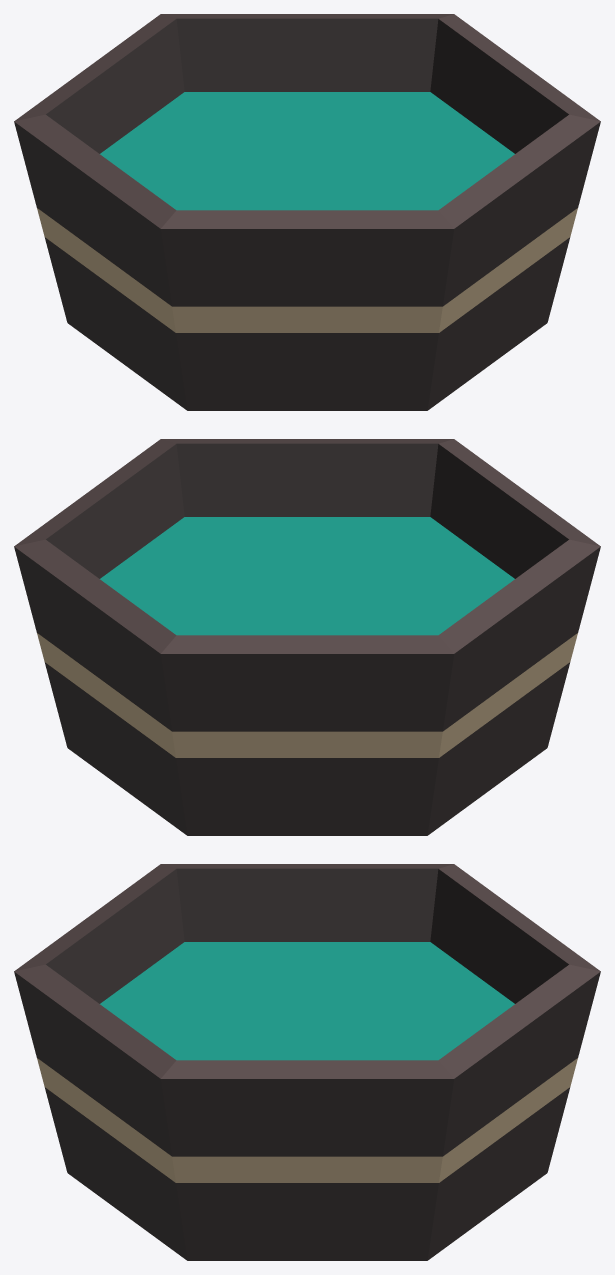
The model's file is TB_D_Prop_BucketBig_Water_C.FBX.
3 renders of one model, top to bottom at view 1: azimuth 30°, elevation 25°; view 2: azimuth 150°, elevation 25°; view 3: azimuth 270°, elevation 25°, orthographic.
Parts seen in each view (by area): view 1: TB_D_Prop_BucketBig_Water_C; view 2: TB_D_Prop_BucketBig_Water_C; view 3: TB_D_Prop_BucketBig_Water_C.
Part boxes in pixels (x1,y1,x2,y2): TB_D_Prop_BucketBig_Water_C: [14, 14, 600, 410]; TB_D_Prop_BucketBig_Water_C: [14, 439, 600, 835]; TB_D_Prop_BucketBig_Water_C: [14, 864, 600, 1260].
Size of the model in its own units: 0.9353 by 0.4233 by 1.08.
